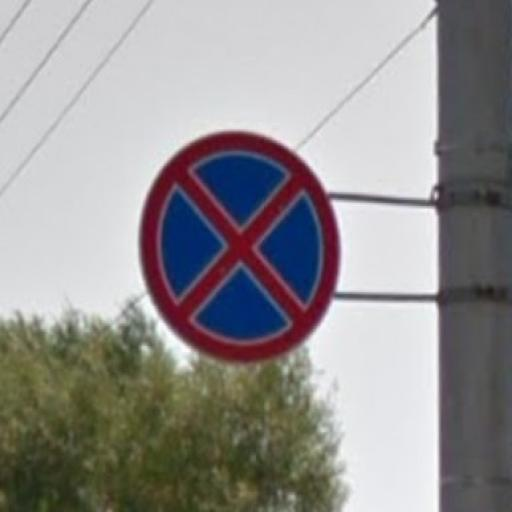traffic_sign: (139, 129, 342, 367)
